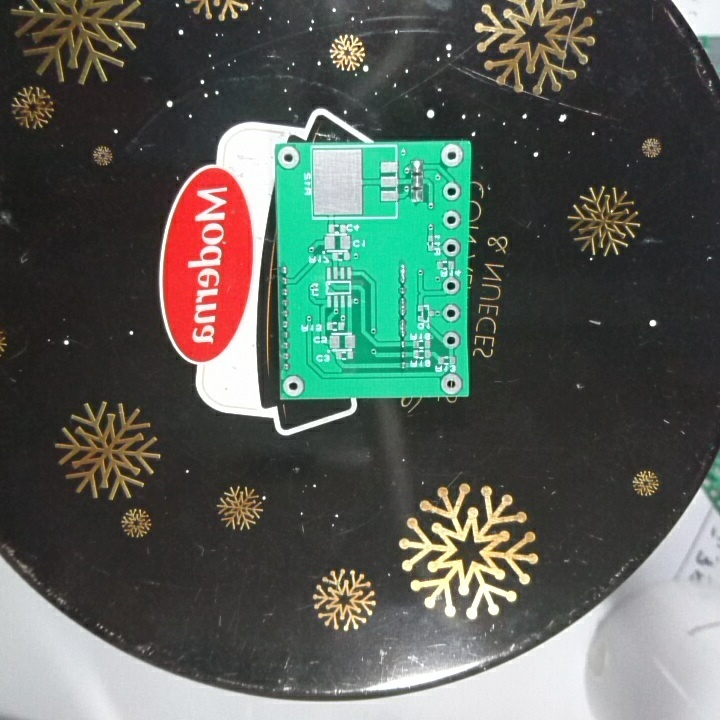F: (437, 143, 465, 167), (281, 372, 306, 398), (276, 146, 302, 171), (439, 275, 464, 298), (439, 372, 465, 393), (441, 181, 465, 203), (440, 208, 463, 230), (440, 236, 463, 258), (442, 302, 464, 324), (441, 329, 464, 350)
P: (397, 295, 410, 319), (396, 262, 409, 284), (397, 318, 408, 338)
